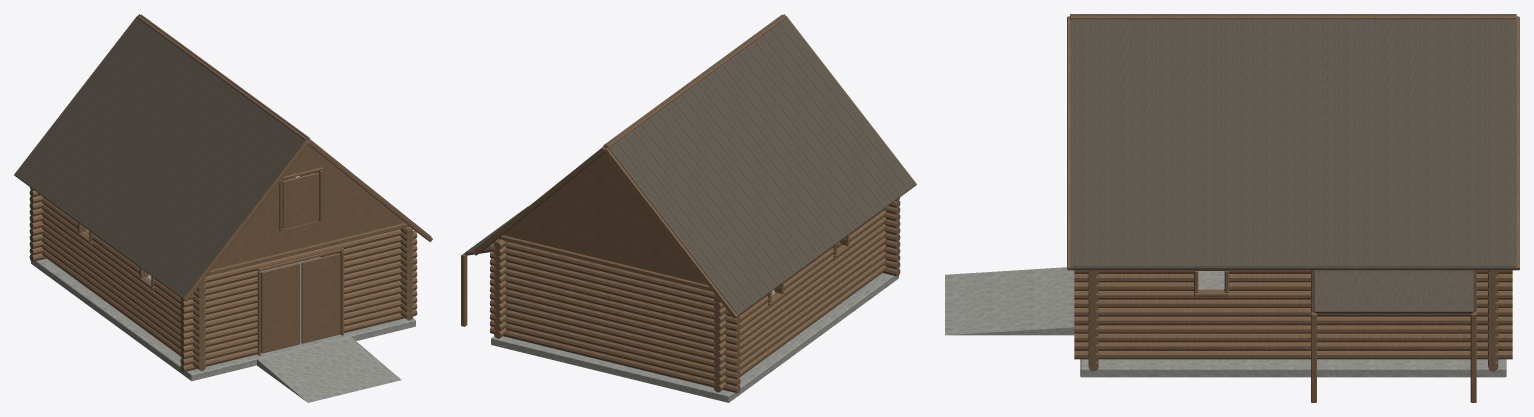
Rendered from b01_closed.glb.
The picture shows the model from 3 angles, left to right: view 1: azimuth 30°, elevation 25°; view 2: azimuth 150°, elevation 25°; view 3: azimuth 270°, elevation 25°; orthographic projection. The views are drawn at different scales.
Parts seen in each view (by area): view 1: B01_roof_left, B01_wall_front, B01_wall_left, B01_gable_front, B01_ramp, B01_foundation, B01_entry_leaf0, B01_entry_leaf1, B01_verge_-1_-1, B01_hay_hatch_leaf0, B01_wall_right, B01_wall_rear (+1 smaller); view 2: B01_roof_left, B01_wall_rear, B01_gable_rear, B01_wall_left, B01_foundation, B01_verge_1_-1, B01_wall_right, B01_wall_front, B01_ridge, B01_canopy_post_4_0.5; view 3: B01_roof_right, B01_wall_right, B01_ramp, B01_foundation, B01_canopy, B01_ridge, B01_canopy_post_4_0.5, B01_wall_front, B01_wall_rear, B01_verge_1_-1, B01_verge_-1_-1.
Boxes of the visible parts, <box> form: B01_roof_left: <box>15,14,307,298</box>; B01_wall_front: <box>180,167,417,372</box>; B01_wall_left: <box>42,196,205,371</box>; B01_gable_front: <box>212,145,404,269</box>; B01_ramp: <box>257,336,401,402</box>; B01_foundation: <box>31,257,415,381</box>; B01_entry_leaf0: <box>261,262,300,353</box>; B01_entry_leaf1: <box>301,253,340,343</box>; B01_verge_-1_-1: <box>182,139,432,301</box>; B01_hay_hatch_leaf0: <box>282,172,319,228</box>; B01_wall_right: <box>282,172,413,320</box>; B01_wall_rear: <box>29,187,89,261</box>; B01_roof_left: <box>605,14,915,315</box>; B01_wall_rear: <box>489,235,740,393</box>; B01_gable_rear: <box>503,153,707,284</box>; B01_wall_left: <box>714,207,887,392</box>; B01_foundation: <box>491,273,898,402</box>; B01_verge_1_-1: <box>473,147,738,318</box>; B01_wall_right: <box>494,239,507,338</box>; B01_wall_front: <box>837,197,900,276</box>; B01_ridge: <box>603,15,786,148</box>; B01_canopy_post_4_0.5: <box>461,253,467,326</box>; B01_roof_right: <box>1070,14,1516,270</box>; B01_wall_right: <box>1074,270,1512,359</box>; B01_ramp: <box>945,267,1074,335</box>; B01_foundation: <box>1080,271,1506,377</box>; B01_canopy: <box>1314,270,1473,313</box>; B01_ridge: <box>1070,14,1516,20</box>; B01_canopy_post_4_0.5: <box>1311,270,1476,402</box>; B01_wall_front: <box>1088,270,1098,371</box>; B01_wall_rear: <box>1488,270,1498,371</box>; B01_verge_1_-1: <box>1514,16,1519,270</box>; B01_verge_-1_-1: <box>1067,16,1072,270</box>.
Size of the model in its own units: 10.31 by 7.84 by 14.02.
Materials: 3 (3 with a texture image).
